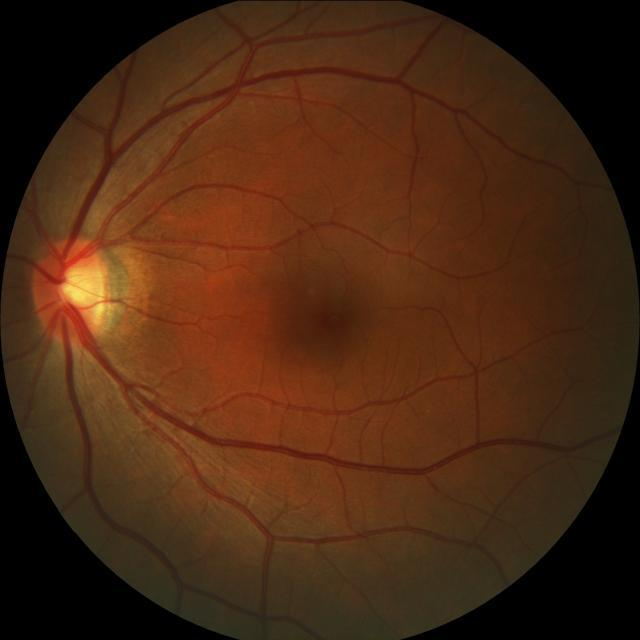OC: (60, 263, 99, 307)
OD: (33, 238, 107, 346)
